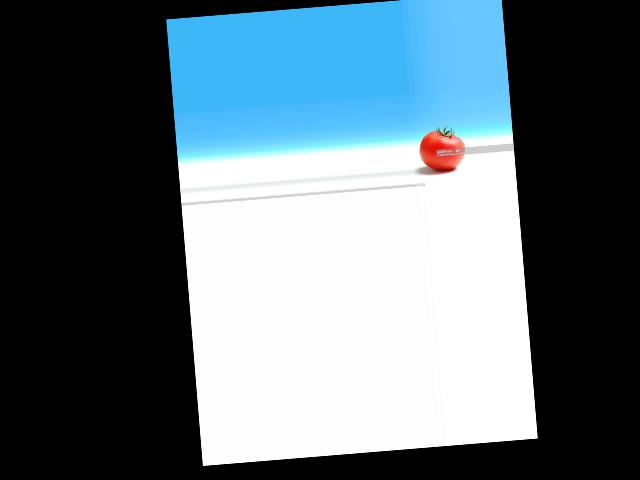tomato: (418, 128, 467, 171)
